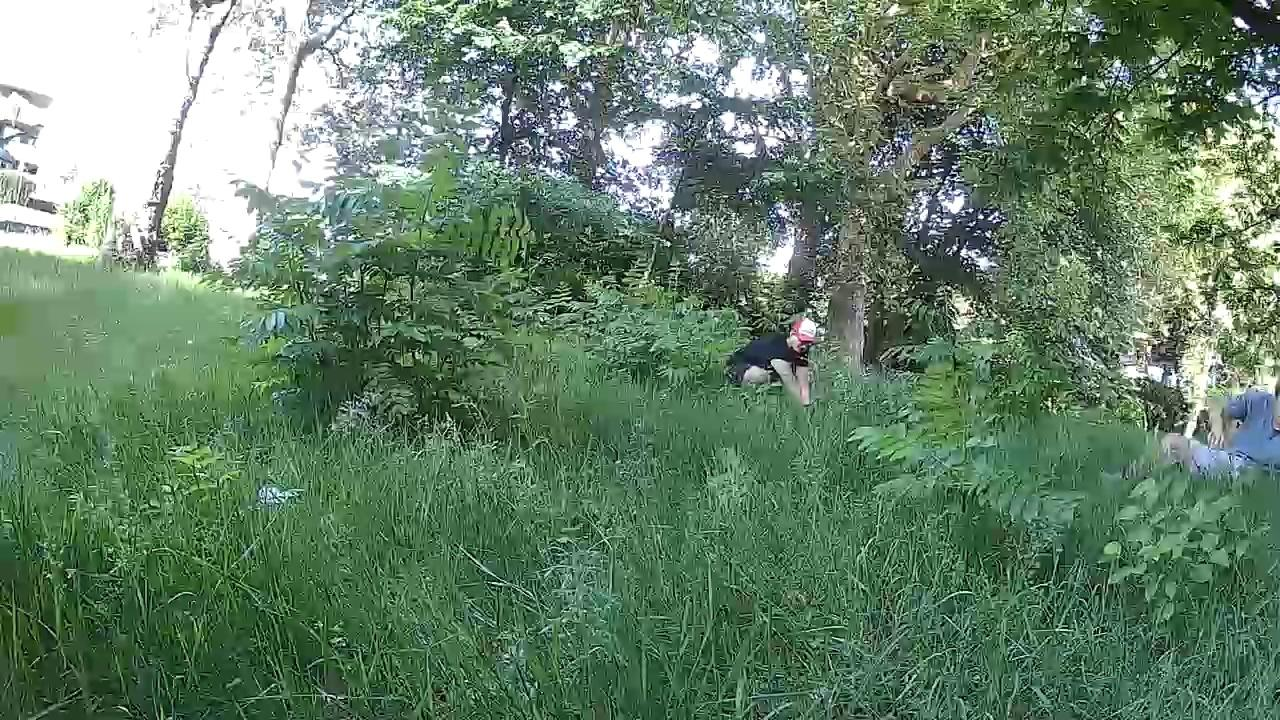korban: (1158, 377, 1280, 479), (722, 314, 821, 411)
